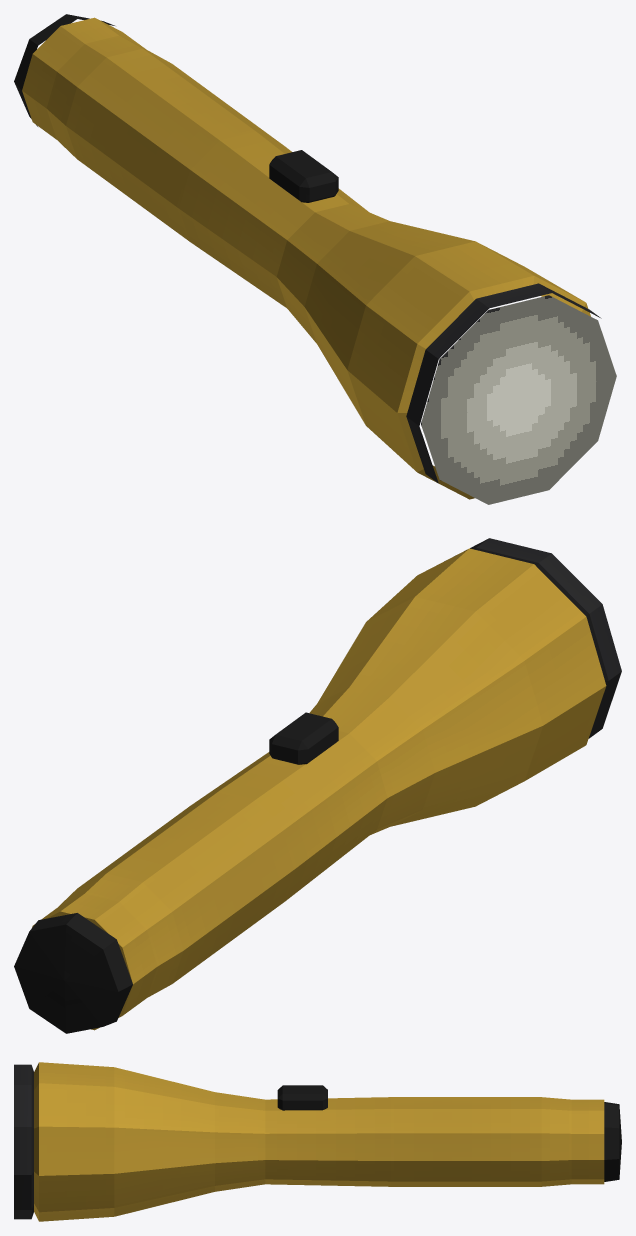
The model's file is PROP_Flashlight_01.glb.
3 renders of one model, top to bottom at view 1: azimuth 30°, elevation 25°; view 2: azimuth 150°, elevation 25°; view 3: azimuth 270°, elevation 25°, orthographic. The views are drawn at different scales.
Parts seen in each view (by area): view 1: PROP_Flashlight_01; view 2: PROP_Flashlight_01; view 3: PROP_Flashlight_01.
Boxes of the visible parts, x1,y1,x2,y2 form: PROP_Flashlight_01: (14,14,616,504); PROP_Flashlight_01: (14,538,621,1033); PROP_Flashlight_01: (14,1062,621,1221).
Size of the model in its own units: 0.064 by 0.0609 by 0.242.
4 materials, 4 textured.
